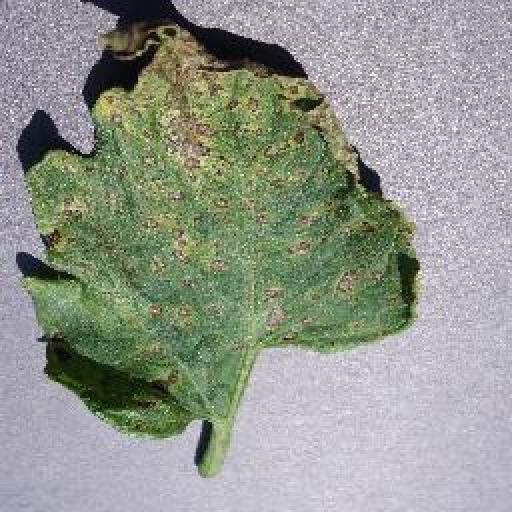Septoria: (18, 18, 420, 438)
